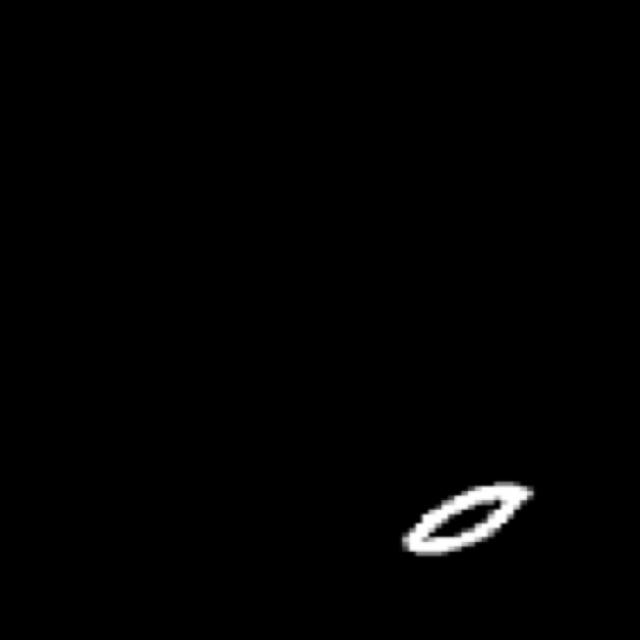zero -0-: (390, 468, 544, 572)
